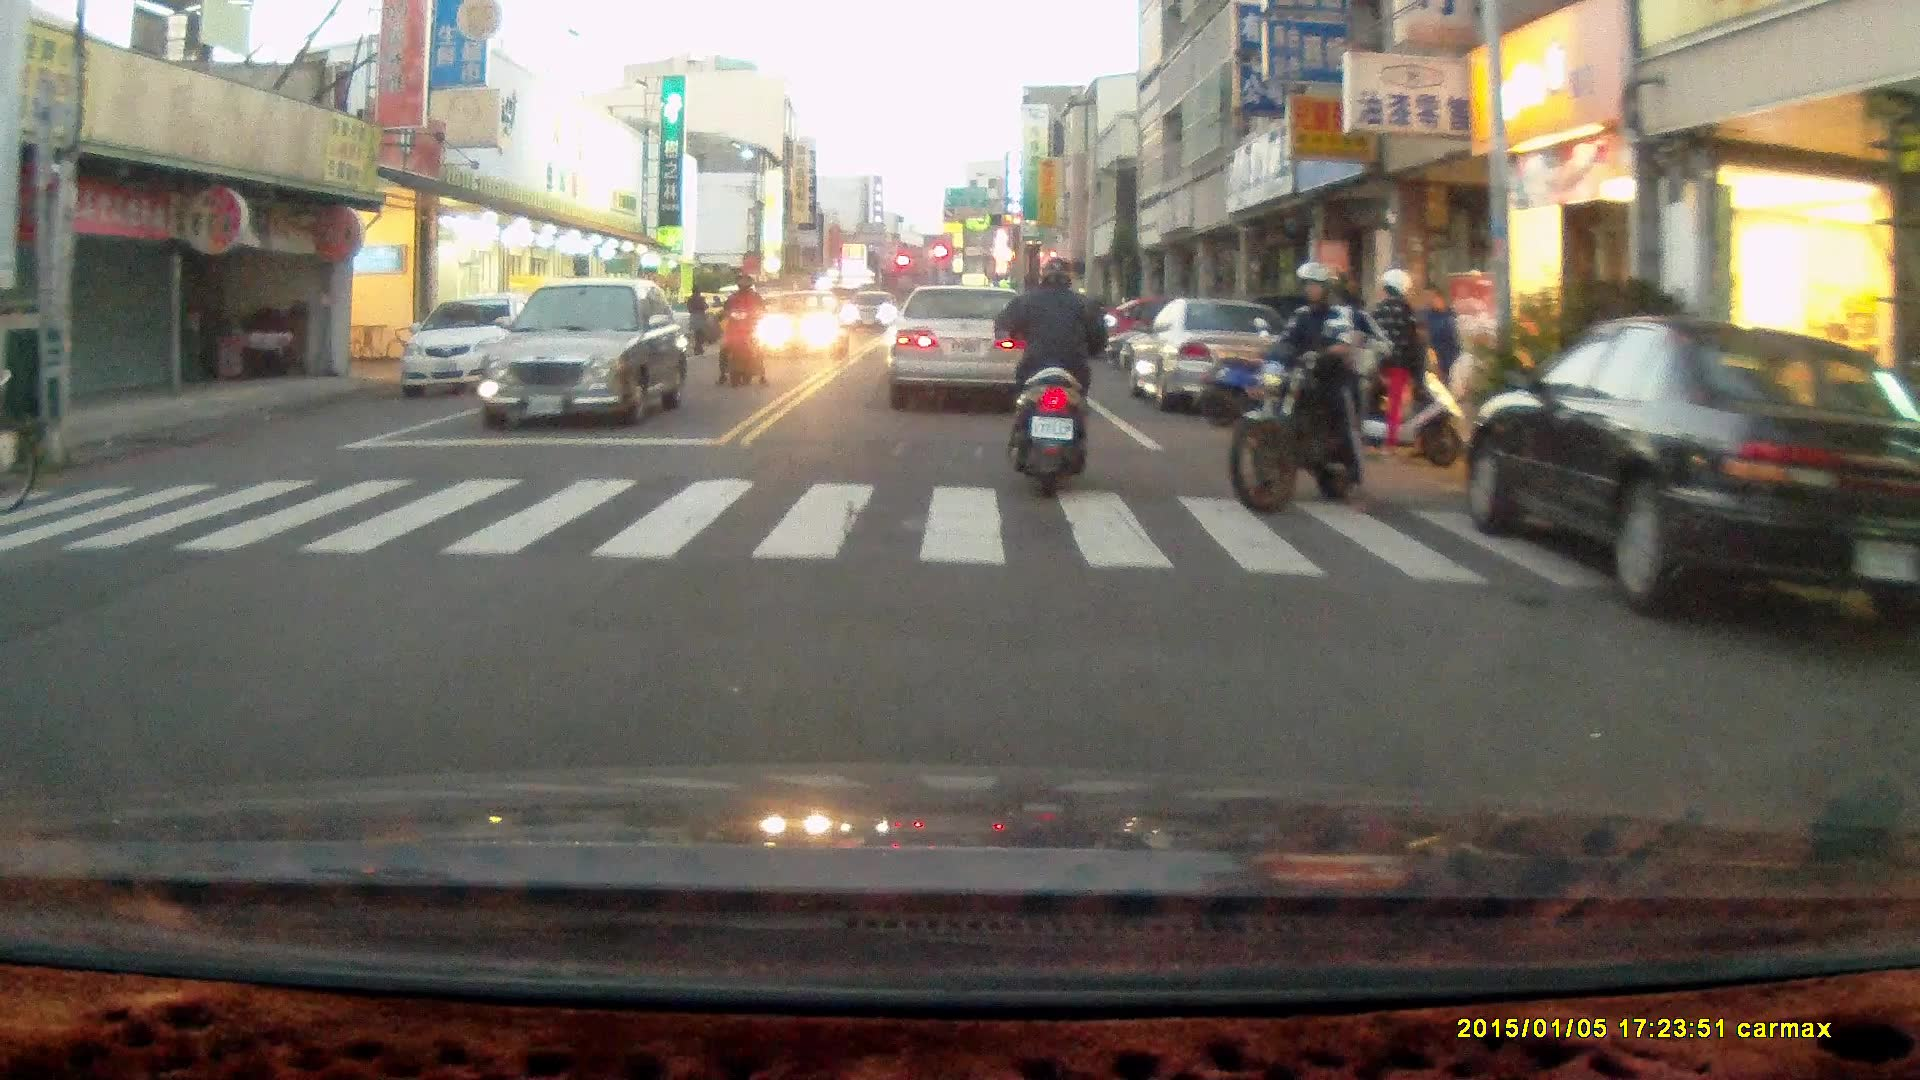pedestrian: (1368, 267, 1423, 451), (1411, 281, 1461, 434), (682, 281, 709, 355)
rider: (1227, 256, 1409, 512), (996, 247, 1114, 495), (714, 266, 770, 388)
vehicle: (1472, 317, 1920, 624), (482, 277, 692, 429), (1124, 298, 1300, 411), (883, 286, 1038, 413), (400, 290, 558, 403), (753, 288, 848, 363)
